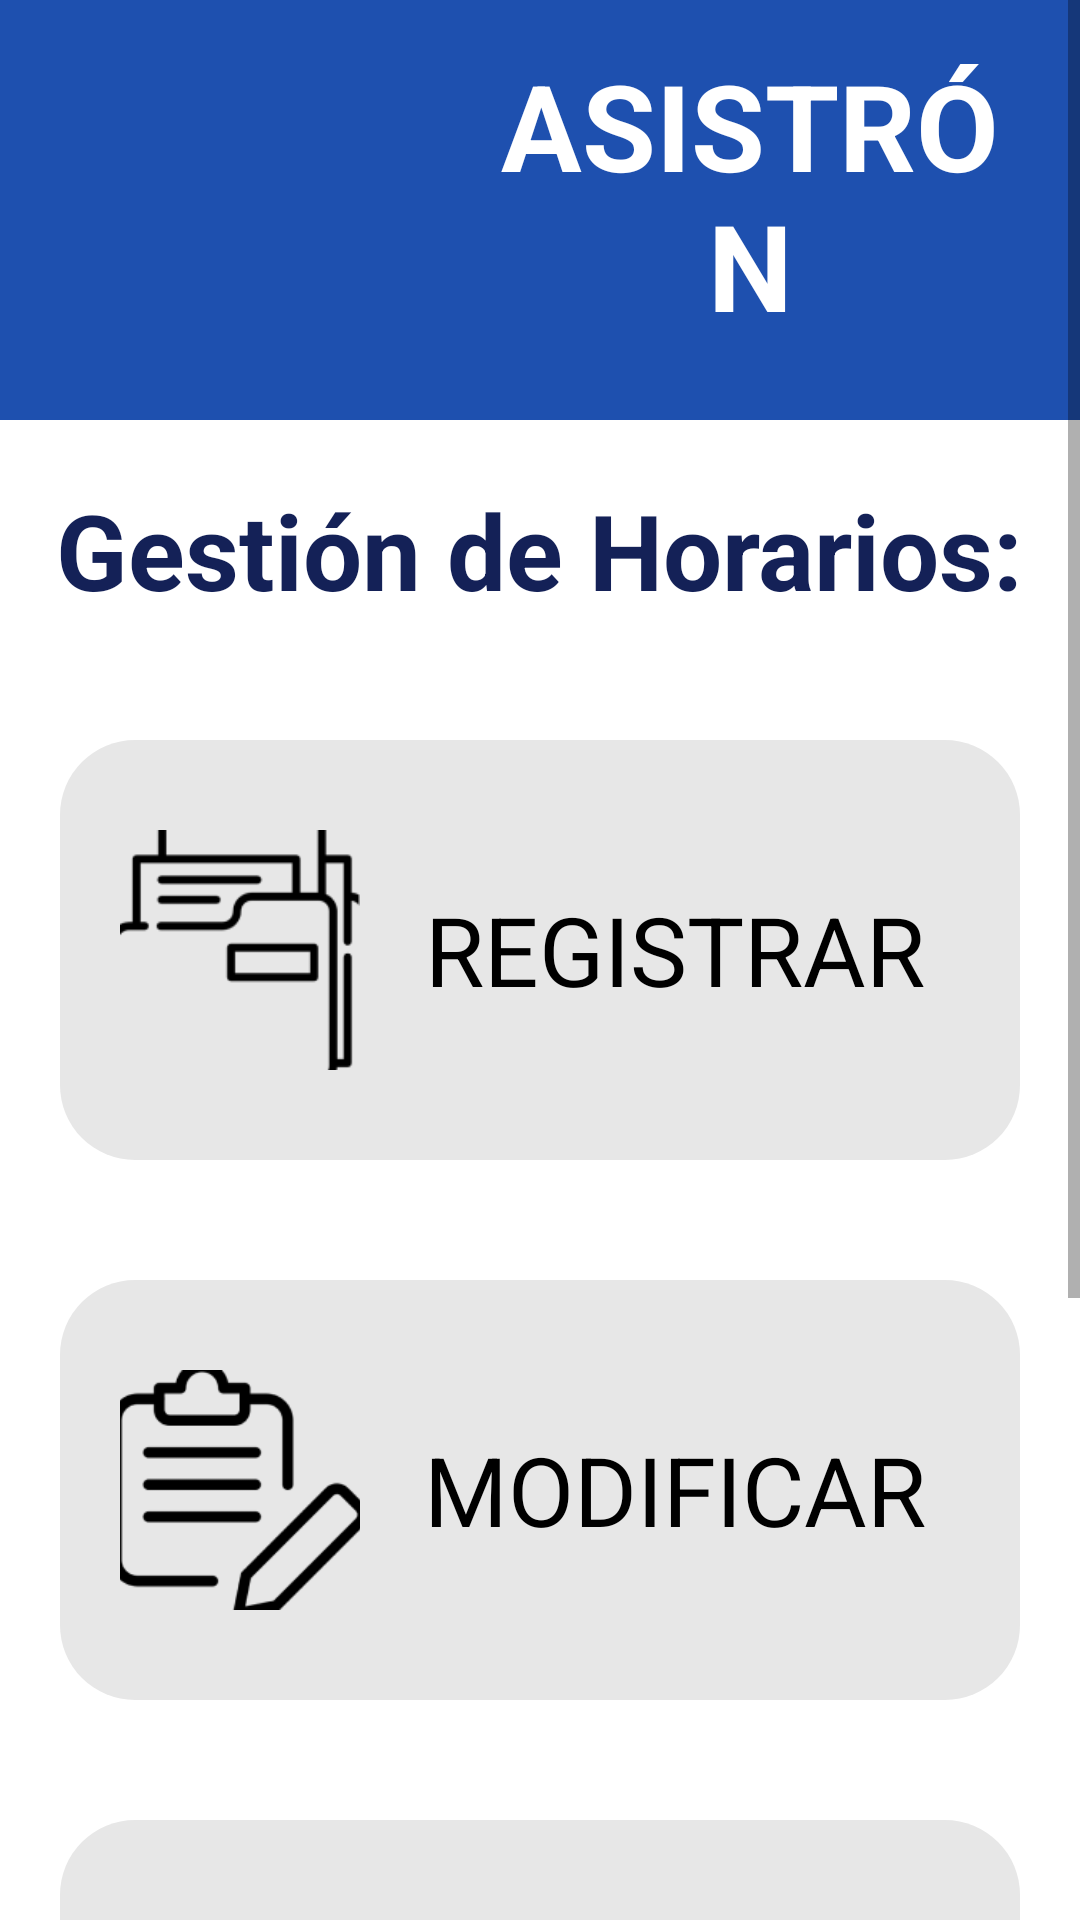

Icons on this 1080px x 1920px Android screen, each with its box as BBox(x1, y1, x2, y2):
edit: BBox(120, 1370, 360, 1610)
